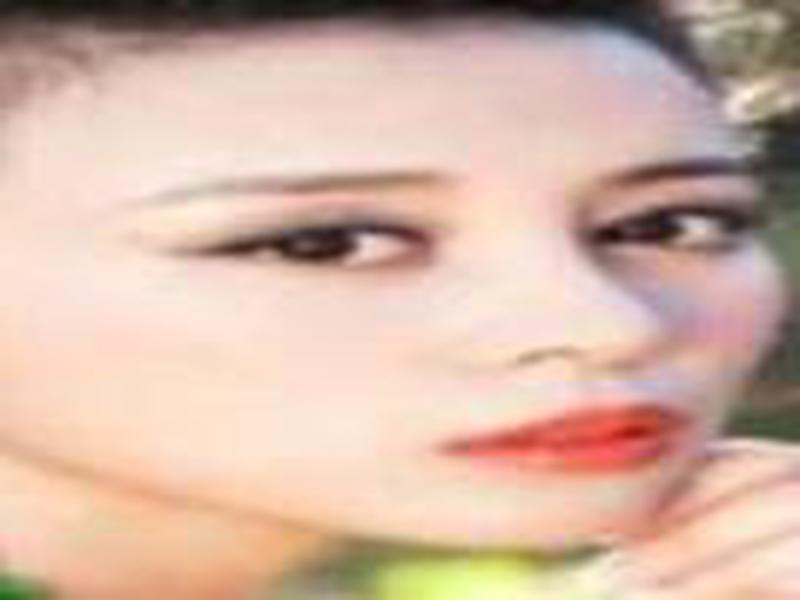without_mask: (14, 25, 783, 555)
